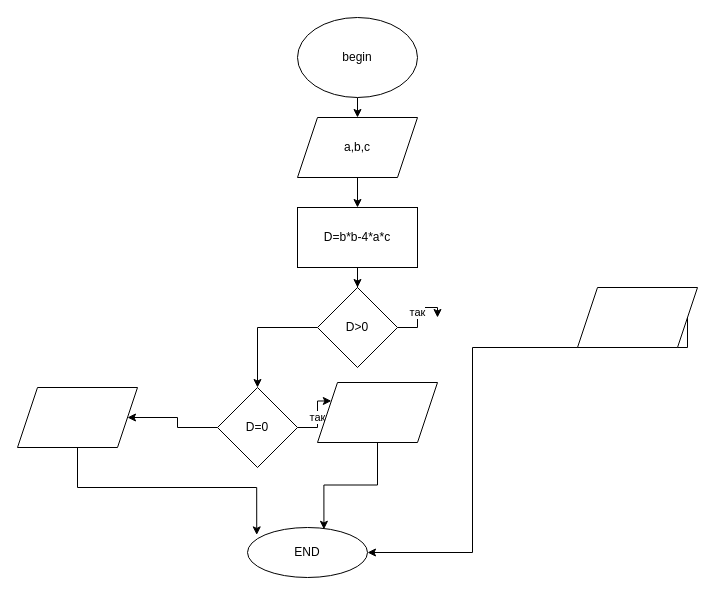
This 715x595 diagram has some shape labels left out. The shapes that lost their labels are listed below. From the top down, each one's box as (x1, y1, x2, y2) in pixels, then its label:
(576, 286, 698, 348): Рівняня має два корені
(16, 386, 138, 448): Рівняння коренів немає
(316, 382, 438, 442): Рівняння має один корінь
